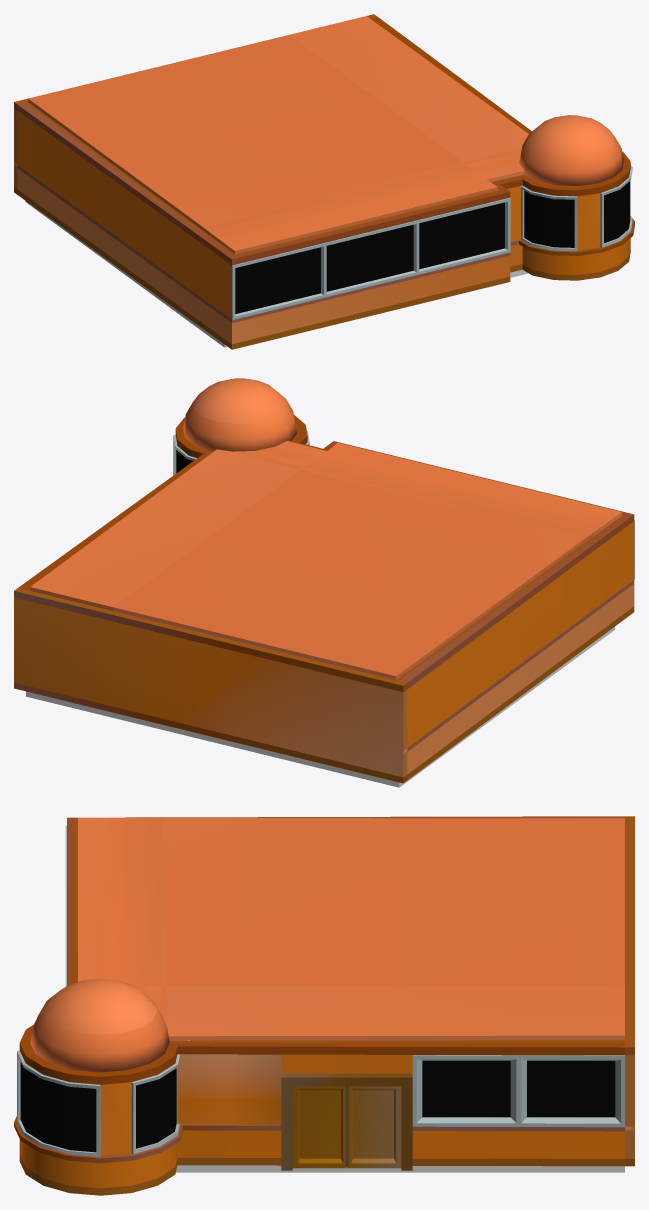
The model's file is CAT COFFEE1.fbx.
The picture shows the model from 3 angles, top to bottom: view 1: azimuth 30°, elevation 25°; view 2: azimuth 150°, elevation 25°; view 3: azimuth 270°, elevation 25°; orthographic projection. The views are drawn at different scales.
Visible parts, largest first — view 1: TECHO, MURO PRINCIPAL, ventanas, CUPULA, SUELO, MURO TRASERO; view 2: TECHO, MURO TRASERO, MURO PRINCIPAL, CUPULA, SUELO; view 3: TECHO, MURO PRINCIPAL, ventanas, PUERTA PRINCIPAL, CUPULA, MURO TRASERO, SUELO.
Part boxes in pixels (<box>): TECHO: <box>28,16,528,254</box>; MURO PRINCIPAL: <box>17,17,634,349</box>; ventanas: <box>235,181,630,313</box>; CUPULA: <box>519,115,623,185</box>; SUELO: <box>25,201,528,347</box>; MURO TRASERO: <box>14,14,377,194</box>; TECHO: <box>30,441,621,679</box>; MURO TRASERO: <box>14,588,407,783</box>; MURO PRINCIPAL: <box>18,415,634,780</box>; CUPULA: <box>183,378,296,452</box>; SUELO: <box>26,627,614,787</box>; TECHO: <box>78,817,624,1040</box>; MURO PRINCIPAL: <box>14,816,624,1195</box>; ventanas: <box>20,1060,615,1152</box>; PUERTA PRINCIPAL: <box>281,1073,412,1170</box>; CUPULA: <box>30,978,169,1072</box>; MURO TRASERO: <box>625,816,634,1166</box>; SUELO: <box>176,1165,624,1172</box>.
Bounding box in the file's own units: 1424 × 472 × 1421.
